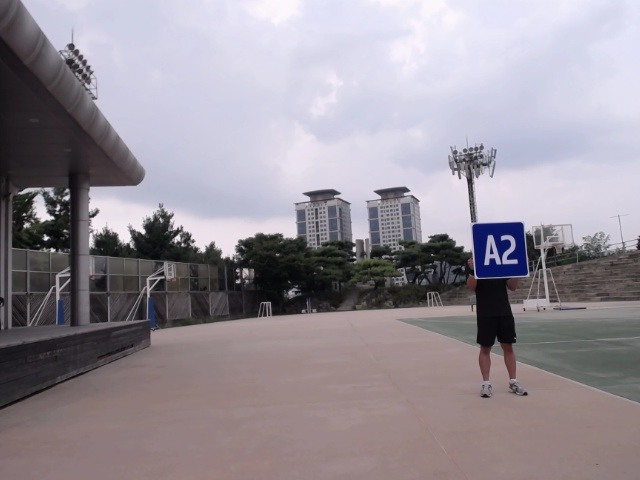delivery_a2: (471, 223, 529, 278)
